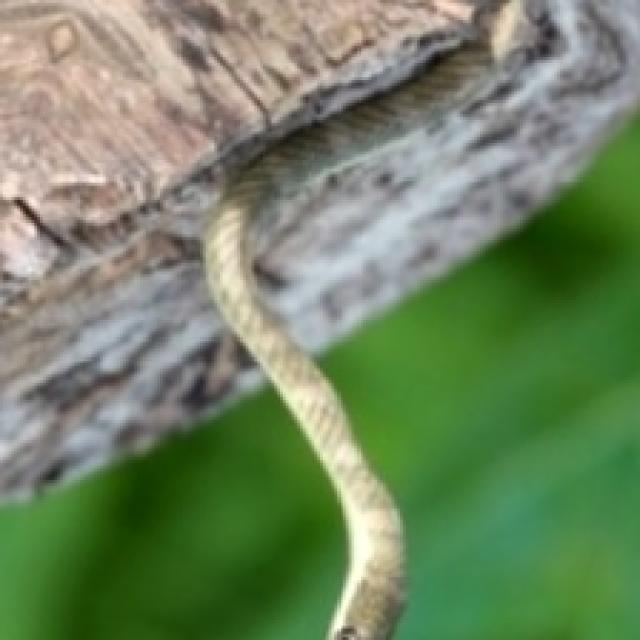paradise tree snake: (203, 0, 637, 637)
